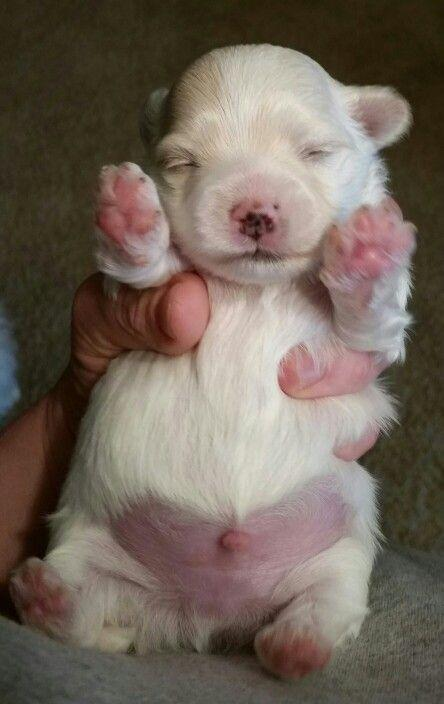puppy-dog: (7, 43, 418, 683)
